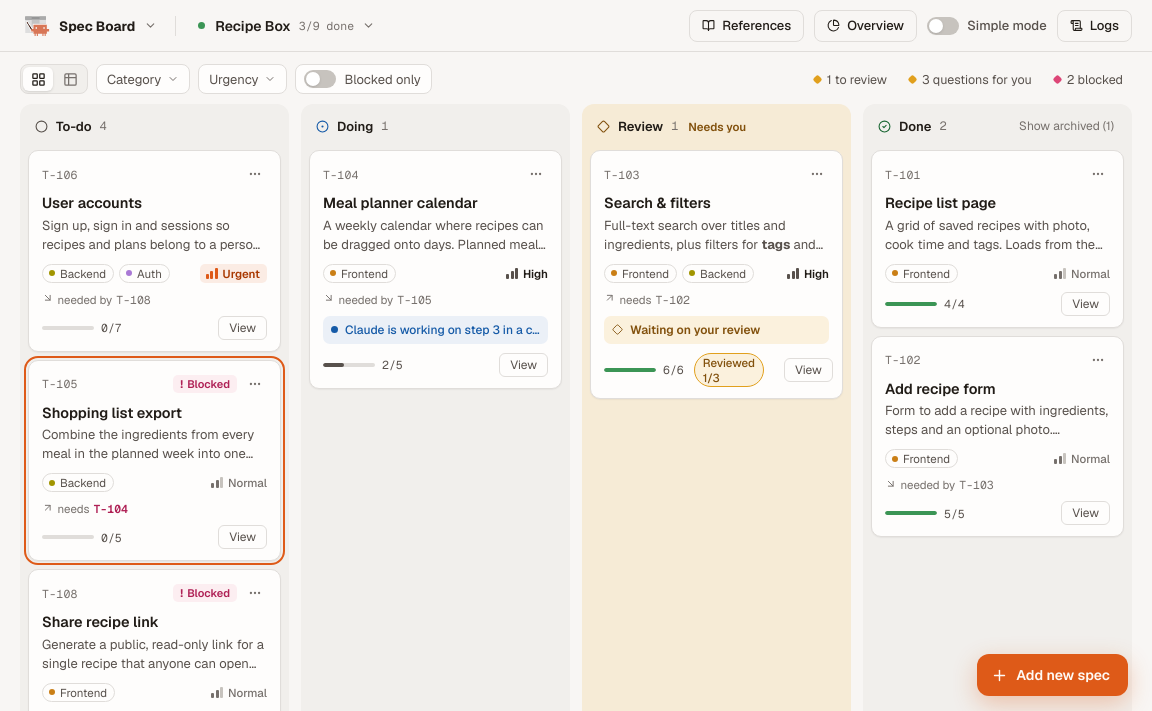
Scenario: App › ?spec= opens the card detail; Esc closes it, clears ?spec= and returns focus to the card
Click the button "T-105 " at (154, 460), box [28,360,281,561]
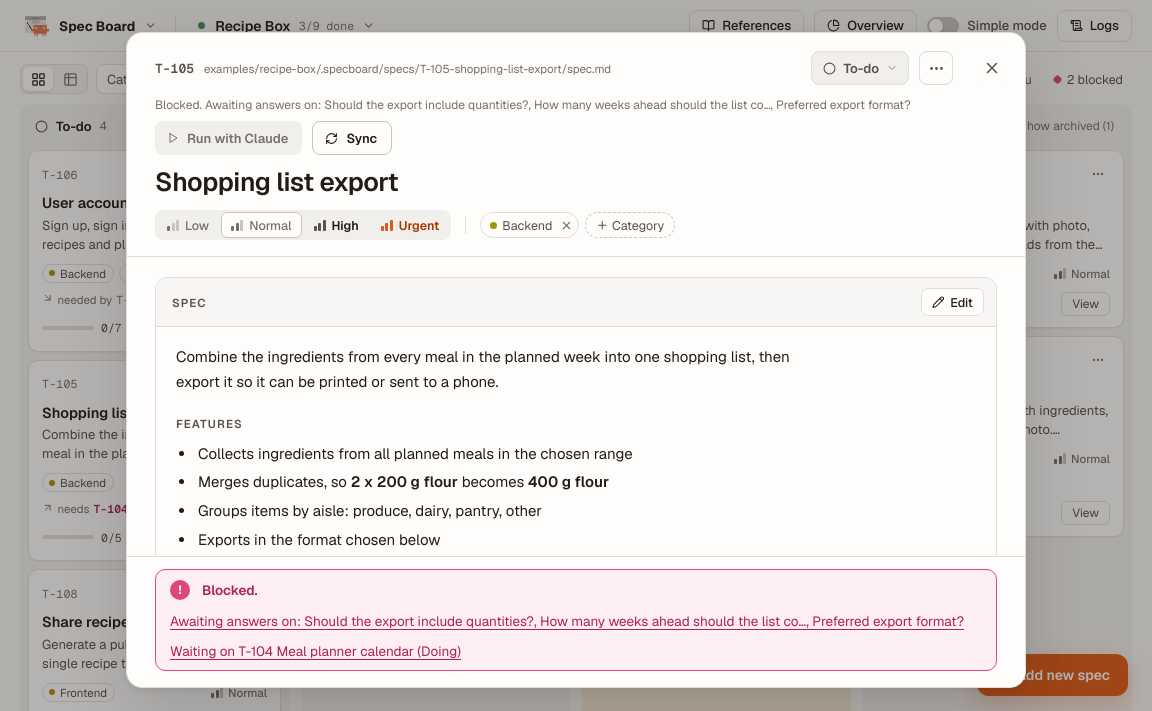
Press Escape in the dialog named "Shopping list export"
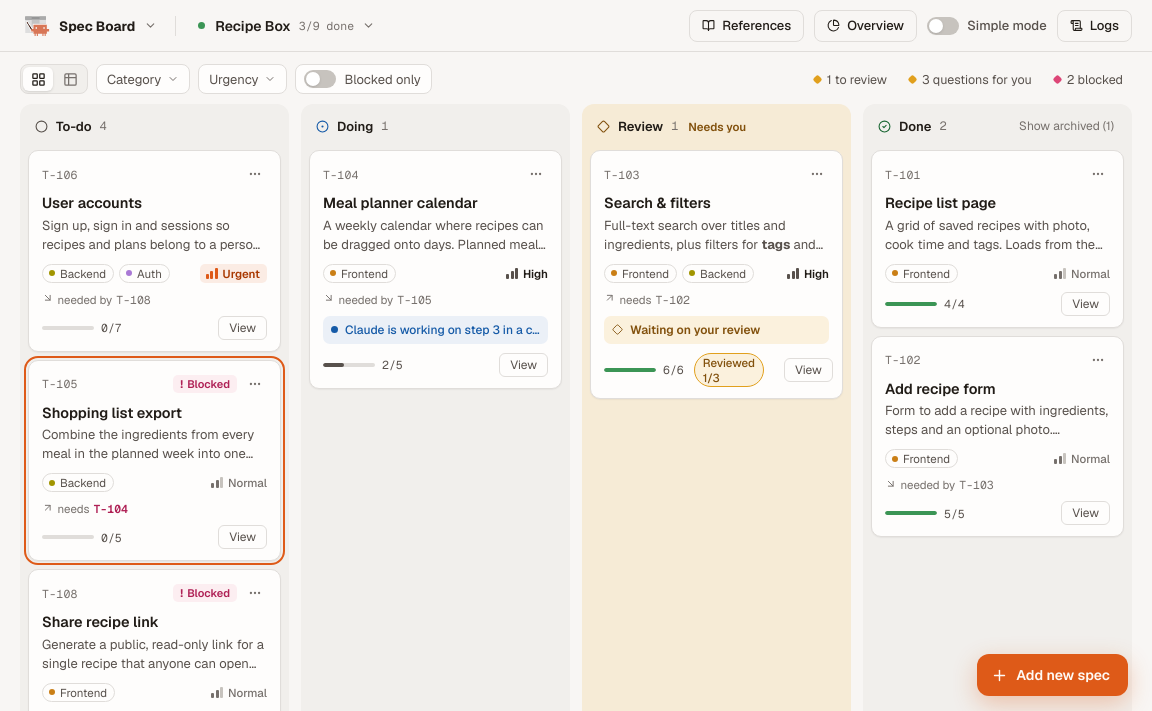
Now the dialog is gone
